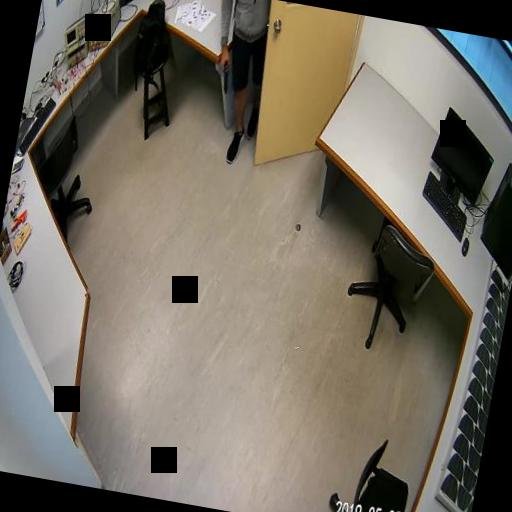Handgun: (214, 53, 232, 91)
